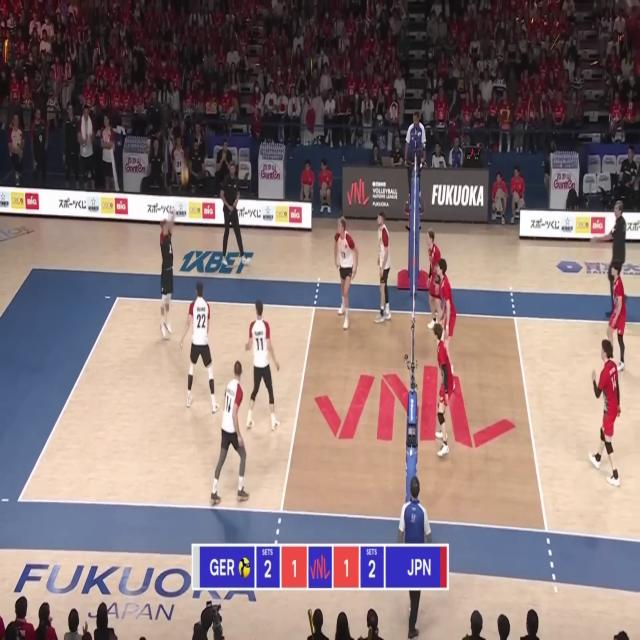referee: (398, 476, 432, 640)
team_one: (210, 359, 250, 507), (245, 302, 281, 434), (181, 285, 216, 417), (333, 214, 361, 329), (158, 200, 176, 338), (376, 211, 394, 328)
team_two: (592, 339, 622, 484), (430, 322, 454, 461), (435, 258, 458, 381), (607, 264, 627, 374), (424, 235, 444, 332)
